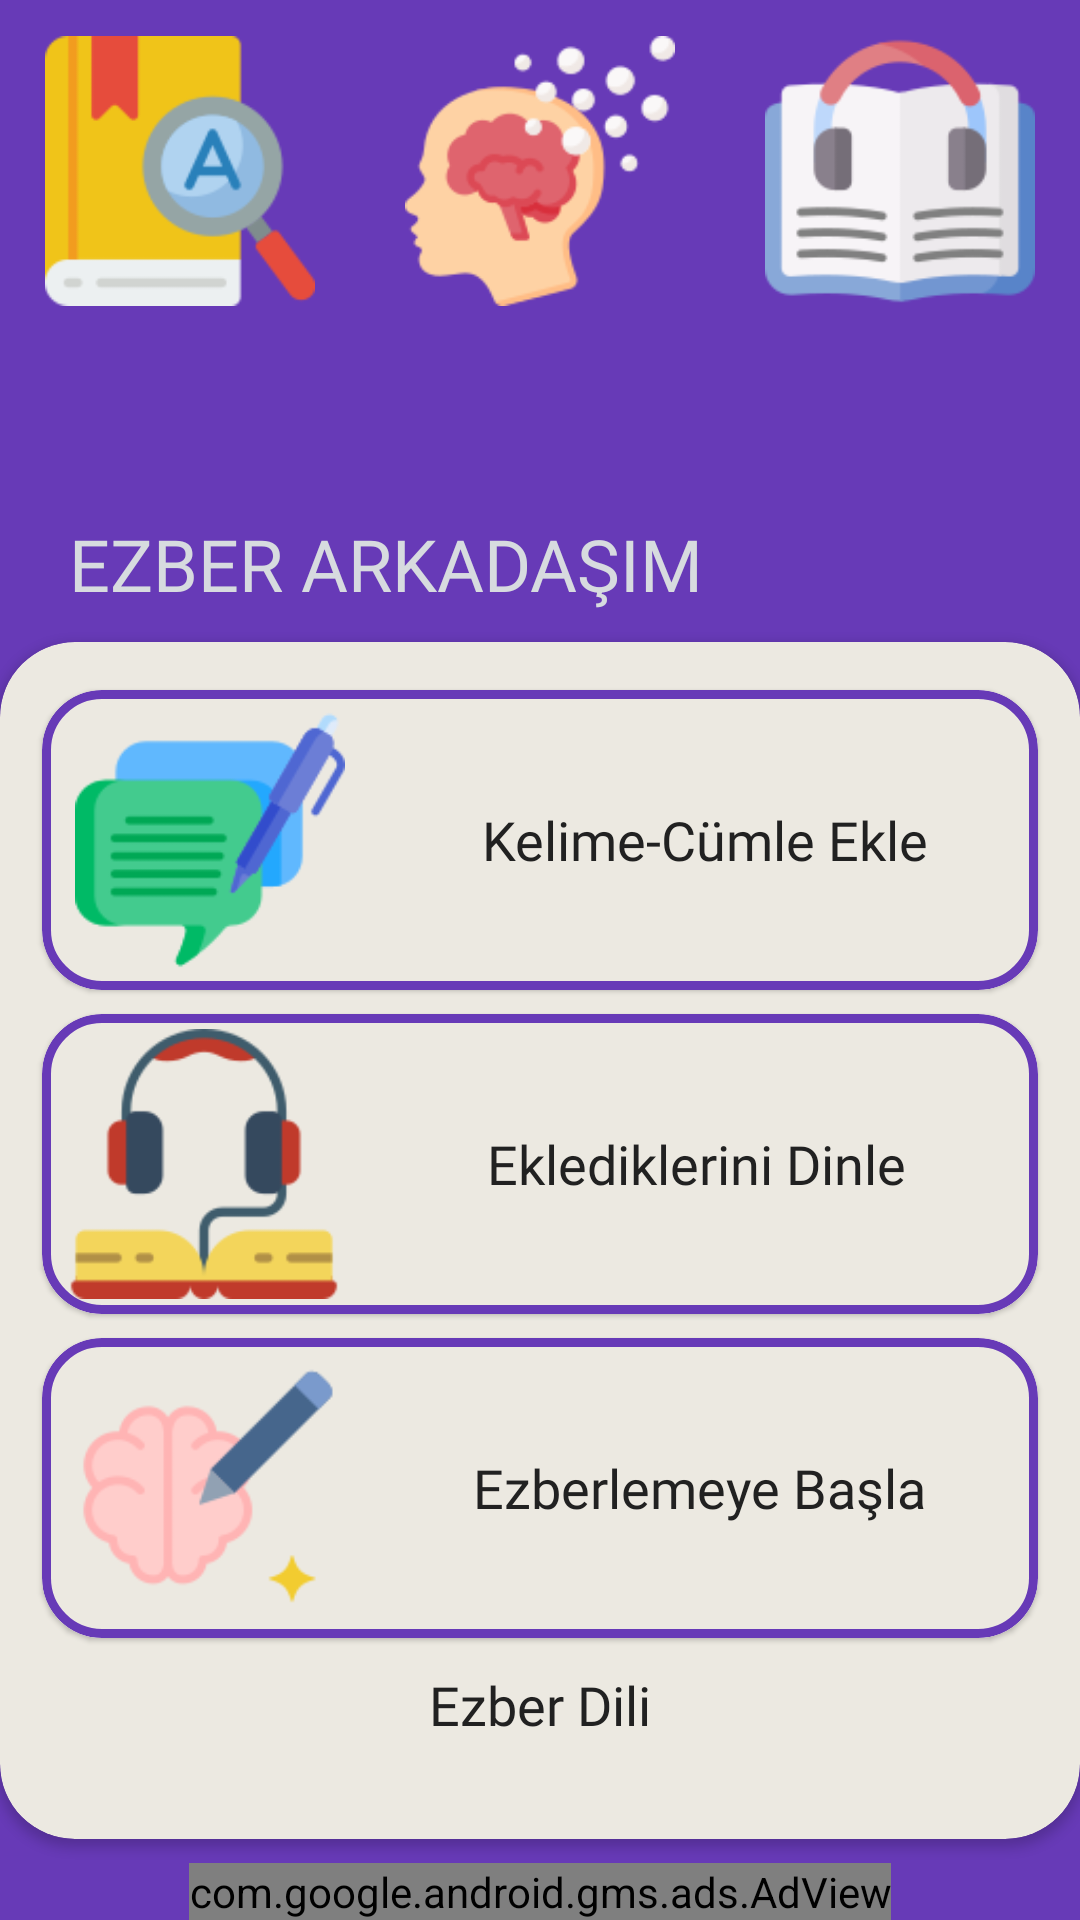

Named icons in this screenshot (1080x1920) and their bounding boxes, (left=x1, top=y1, right=x2, bottom=y2):
comment: (left=75, top=715, right=345, bottom=967)
